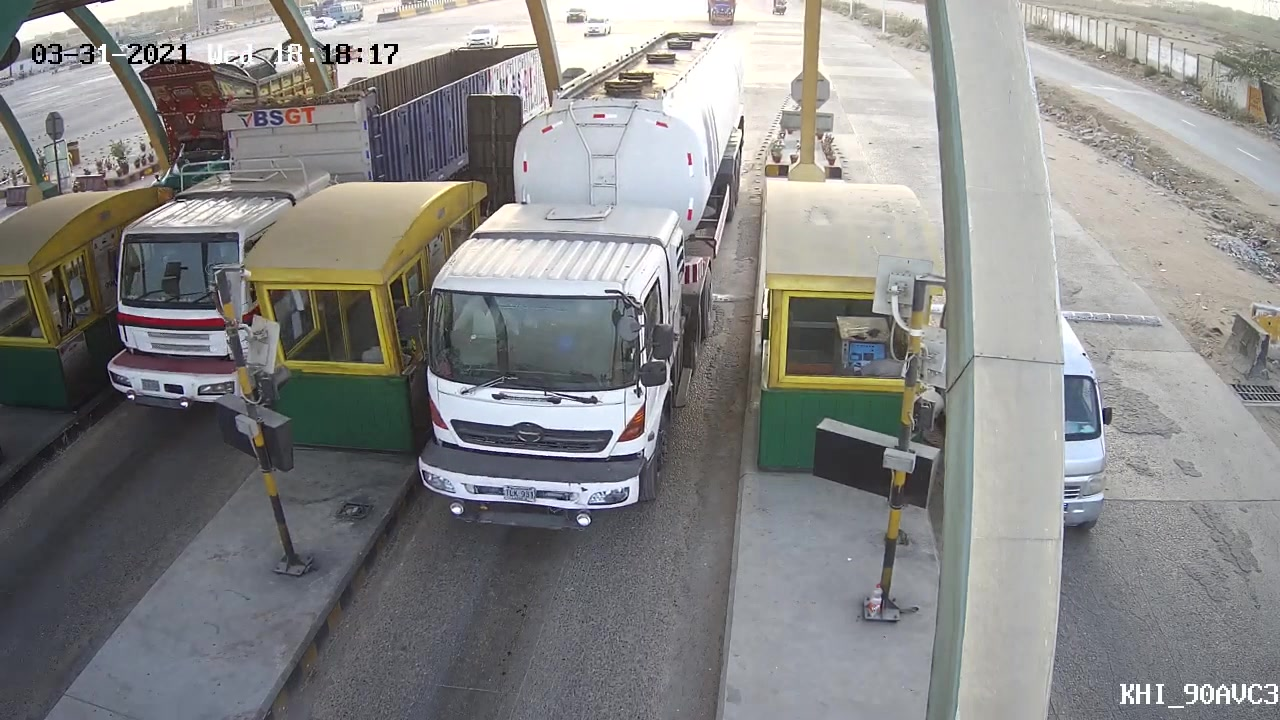F6: (399, 23, 749, 534)
